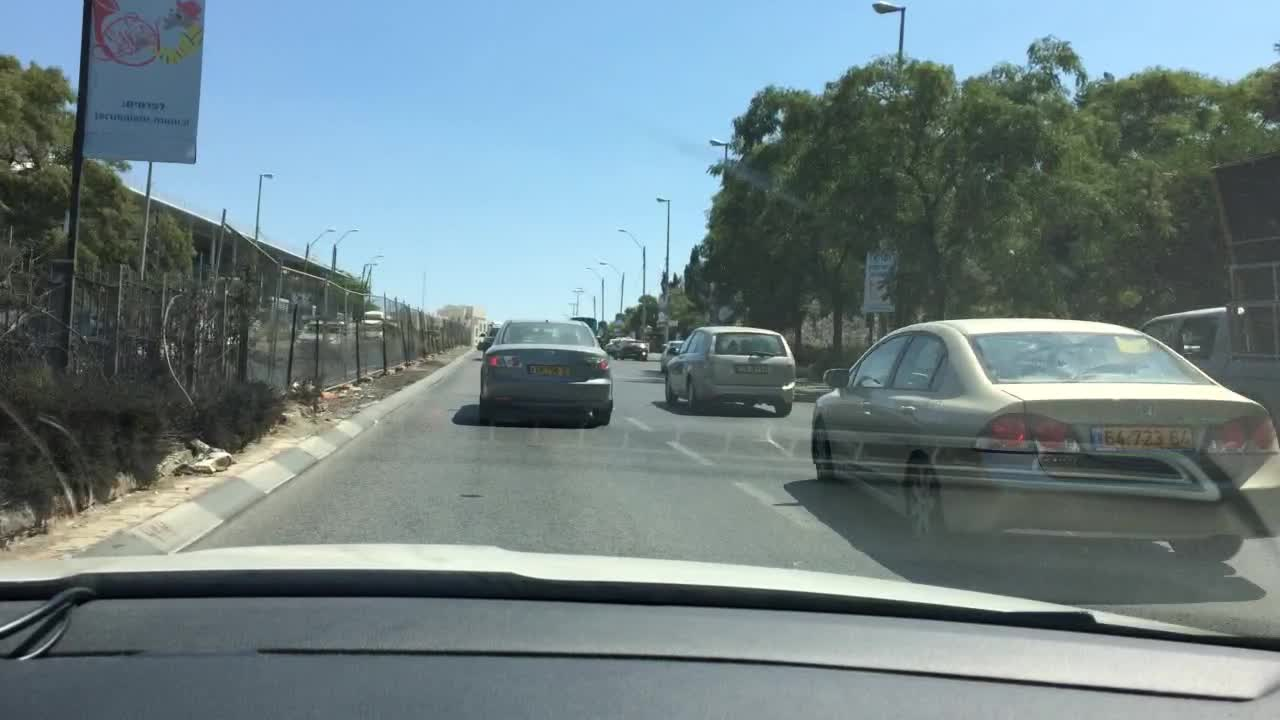car: (808, 313, 1277, 568), (475, 314, 618, 425), (660, 321, 797, 413), (292, 316, 354, 361), (657, 335, 690, 375), (351, 314, 389, 348), (618, 338, 652, 359), (479, 325, 504, 353), (568, 312, 599, 334), (598, 334, 623, 355)
traffic sign: (75, 1, 199, 163), (863, 246, 899, 316)
truck: (1134, 143, 1275, 435)
